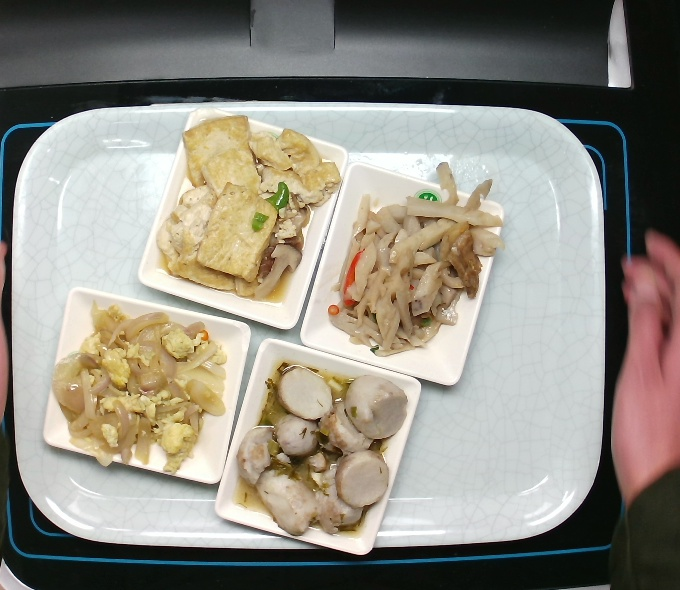wcq-JiaChangDouFu: (154, 110, 346, 306)
wcq-QingChaoOuPian: (323, 160, 508, 360)
wcq-YangCongChaoDan: (46, 294, 238, 477)
wcq-YangYu: (234, 357, 410, 541)
